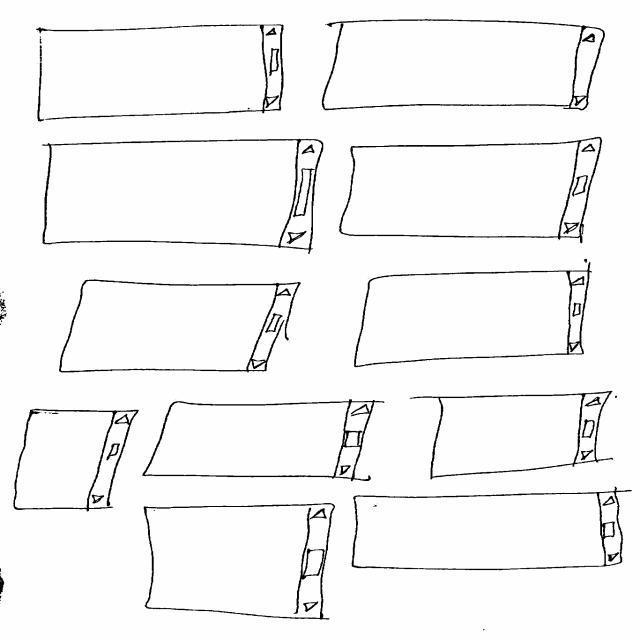textarea: (43, 140, 324, 255), (340, 138, 603, 244), (355, 259, 593, 368), (323, 20, 606, 111), (37, 24, 284, 122), (352, 487, 632, 571), (60, 280, 302, 373), (145, 504, 336, 621), (143, 400, 385, 482), (410, 392, 614, 481), (14, 409, 140, 512)
